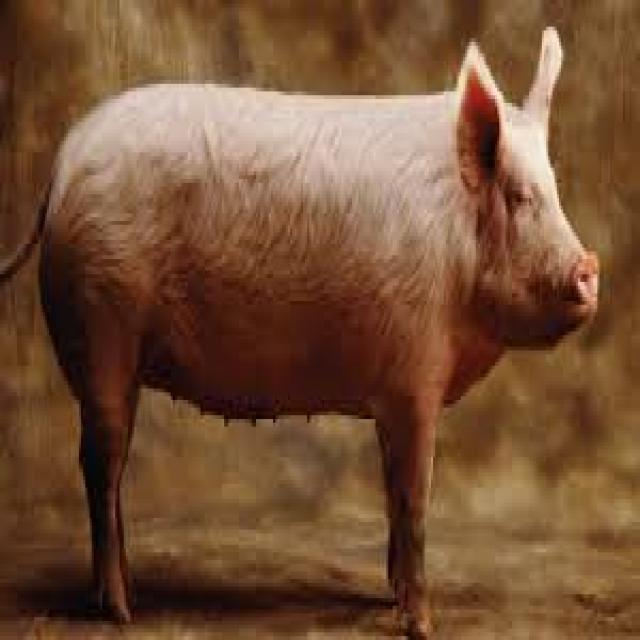Pig: (7, 21, 602, 640)
